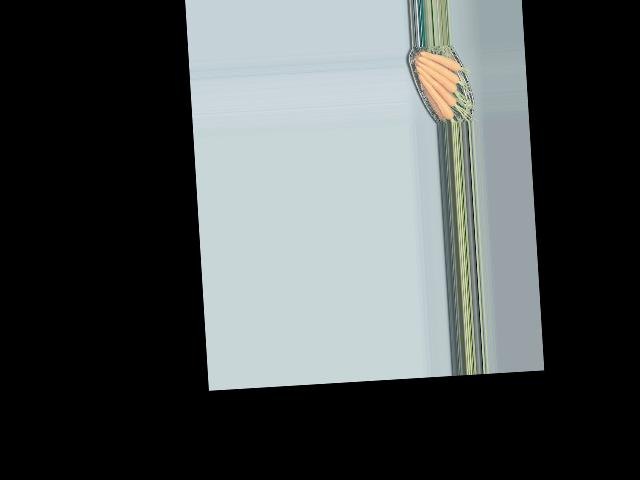carrot: (419, 48, 460, 70)
